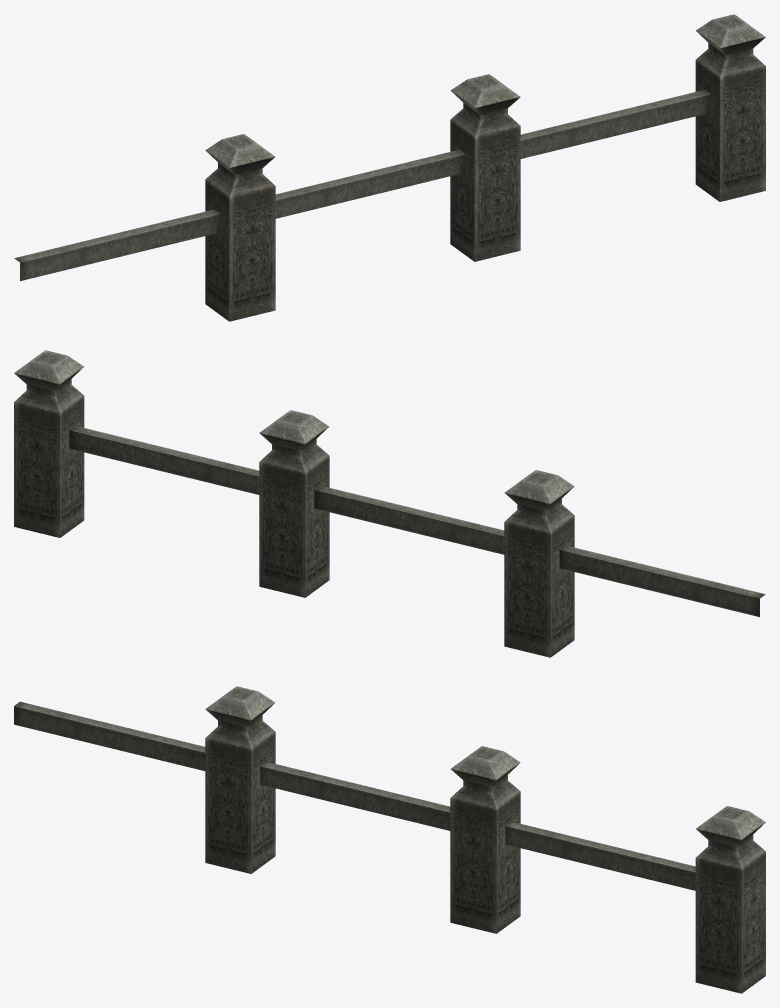
Rendered from stadium_02_02.glb.
3 renders of one model, top to bottom at view 1: azimuth 30°, elevation 25°; view 2: azimuth 150°, elevation 25°; view 3: azimuth 330°, elevation 25°, orthographic.
Parts seen in each view (by area): view 1: stadium_02_02; view 2: stadium_02_02; view 3: stadium_02_02.
Part boxes in pixels (<box>): stadium_02_02: <box>14,14,765,321</box>; stadium_02_02: <box>14,350,765,657</box>; stadium_02_02: <box>14,686,765,993</box>.
Size of the model in its own units: 16.79 by 3.6 by 0.9563.
1 material, 1 textured.
